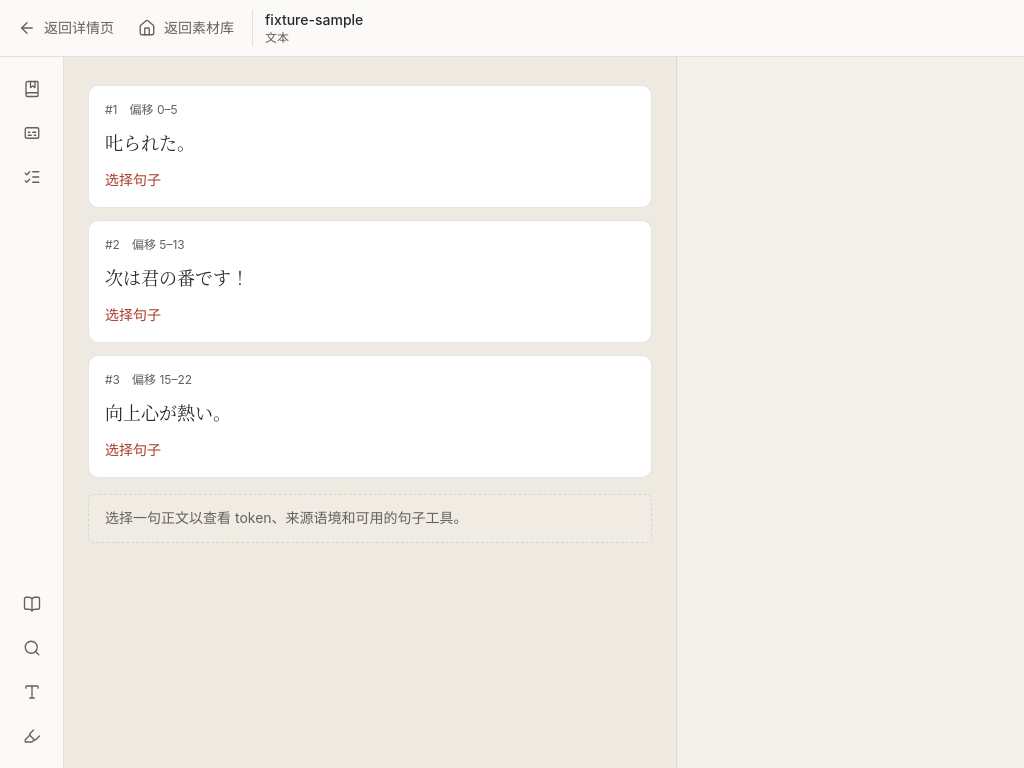
Test: ReaderWorkspace RF-02 boundary › keeps the previous lookup result when the dictionary slot is collapsed and re-expanded
What coordinates should you click on to do the following:
click the button "选择句子" below "偏移 5–13"
I would click on:
 (133, 315)
Its box is [105,305,161,325].
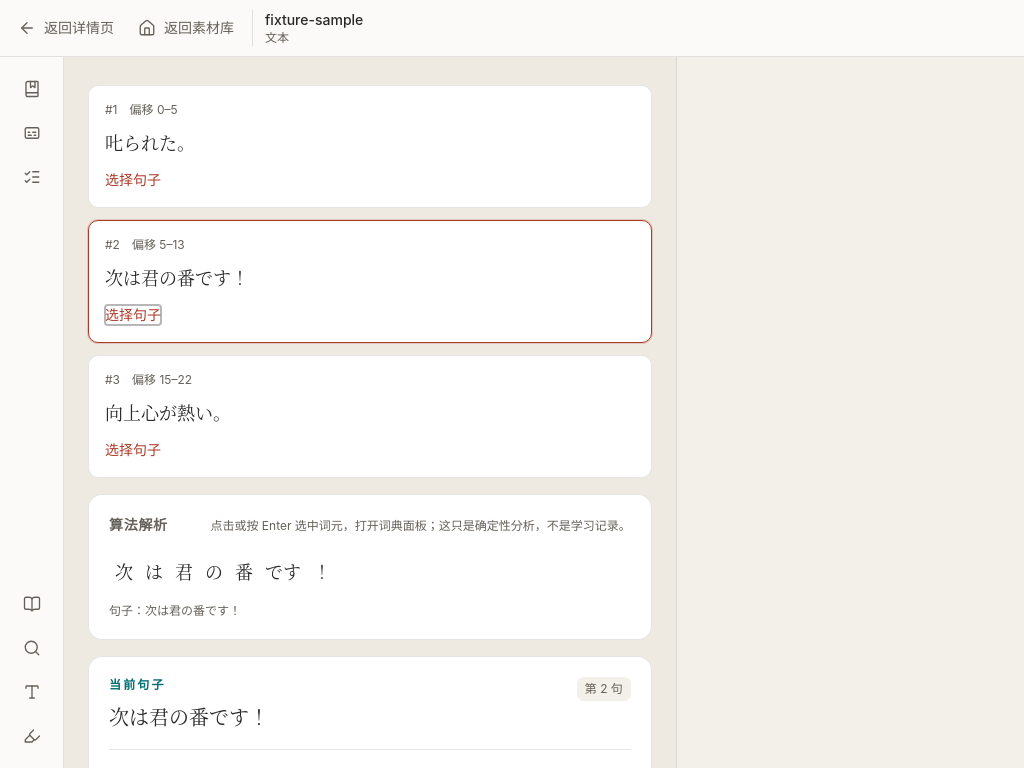
What coordinates should you click on to do the following:
click the button named "君，读音 キミ"
I would click on:
 (184, 571)
Its box is [171,551,197,591].
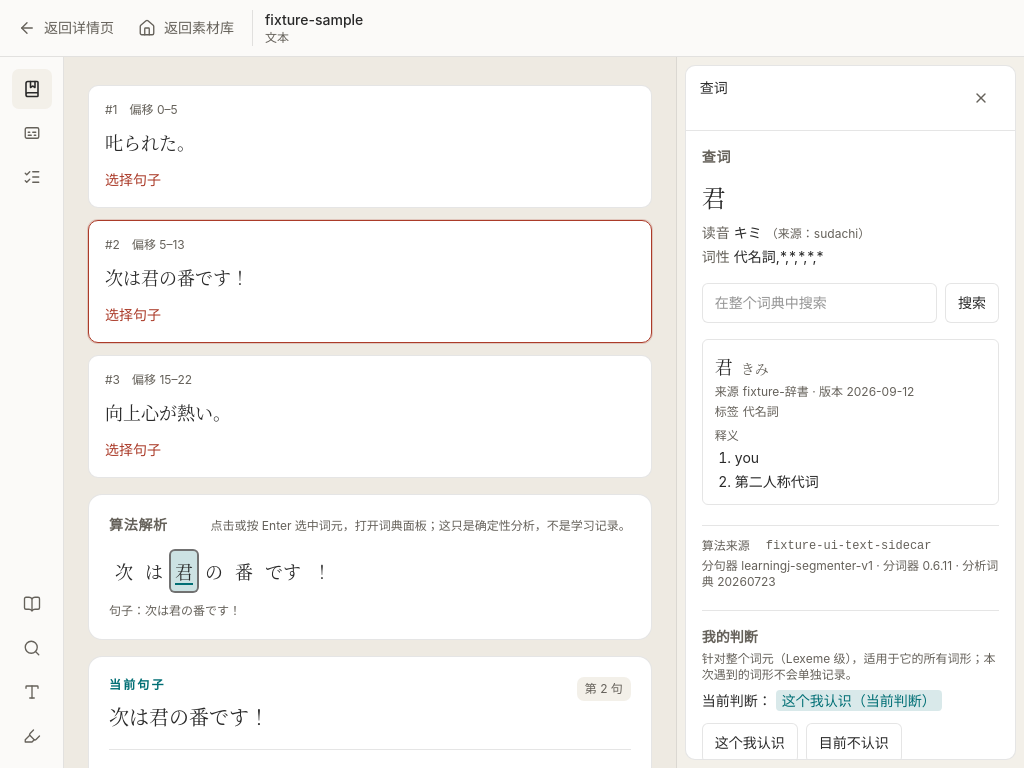
Expected: the element "查词" shows "you", [735,449,759,466]
// 收起槽位：只隐藏查词界面，不清空已取回的查询结果。
What coordinates should you click on to do the following:
click the button named "查词"
I would click on:
 (32, 89)
Its box is [12,69,52,109].
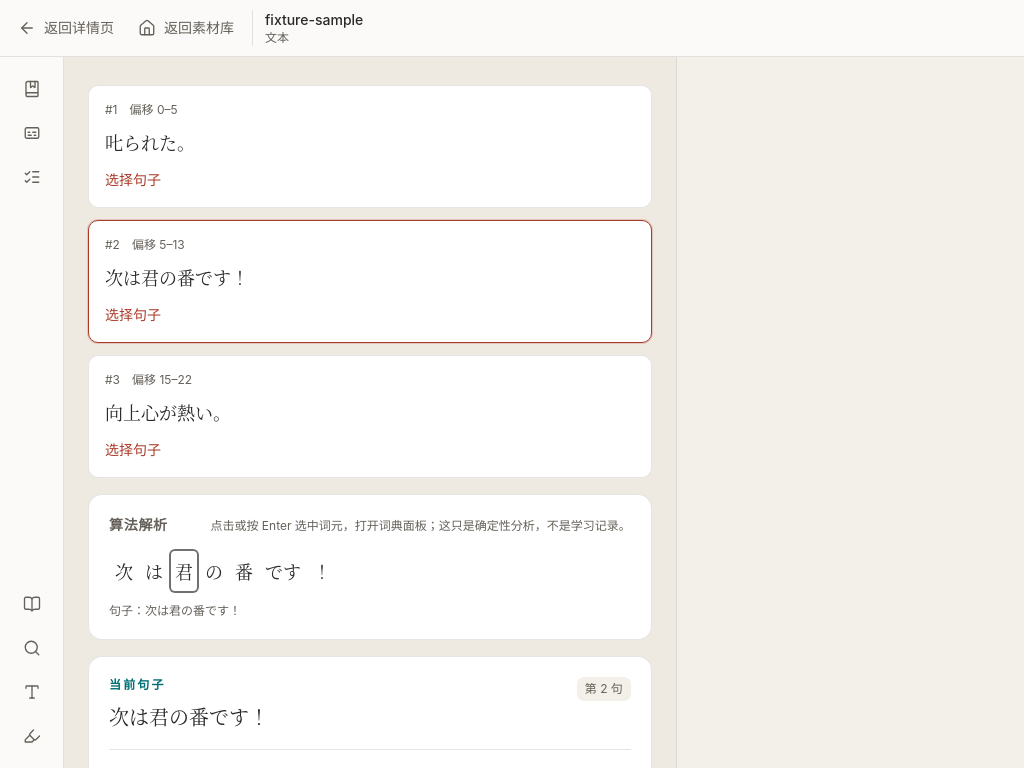
// 重新展开：仍显示上一次的查询结果，而不是占位文案。
What coordinates should you click on to do the following:
click the button named "查词"
I would click on:
 (32, 89)
Its box is [12,69,52,109].
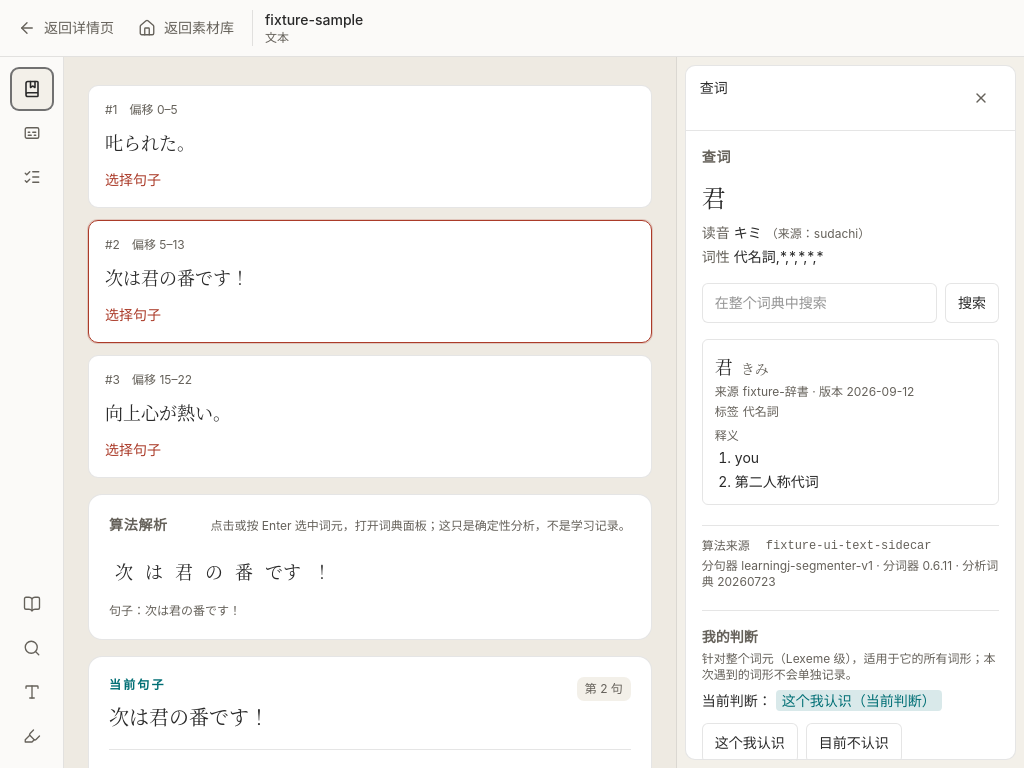
Expected: the element "查词" does not show "选择正文中的 token 后", [685,65,1016,760]
Expected: the element "查词" shows "you", [735,449,759,466]
